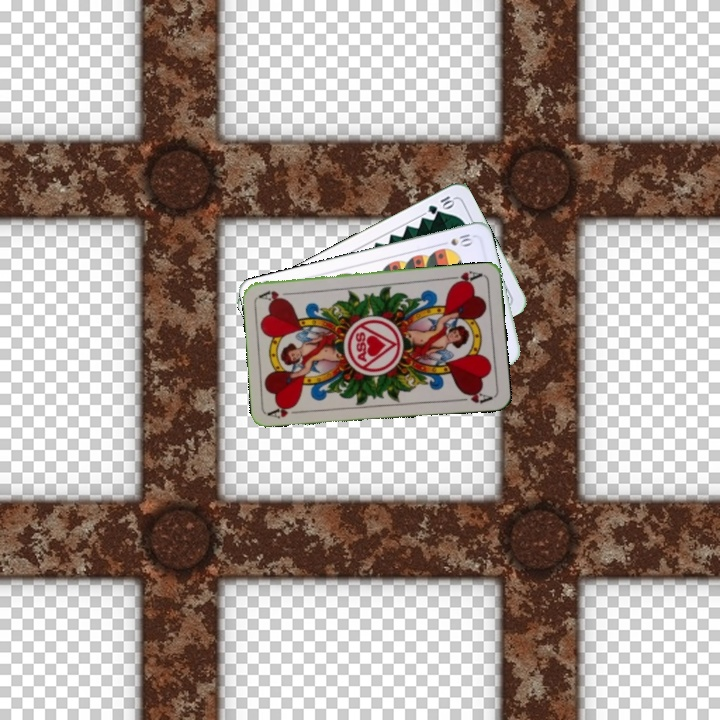G10: (424, 192, 457, 217)
HA: (445, 267, 485, 288), (266, 400, 306, 421)
S10: (436, 230, 476, 248)
